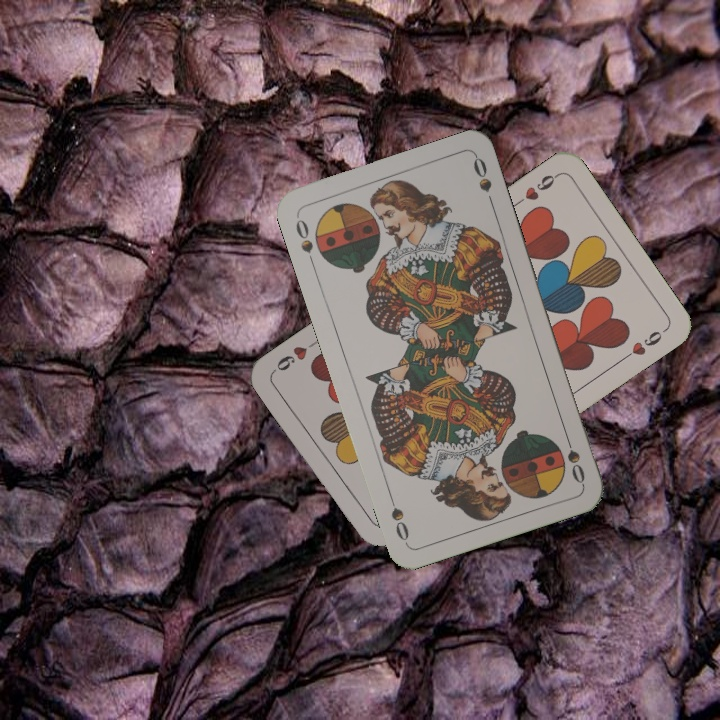H9: (510, 169, 561, 210)
SO: (560, 429, 588, 487), (291, 212, 318, 270)
